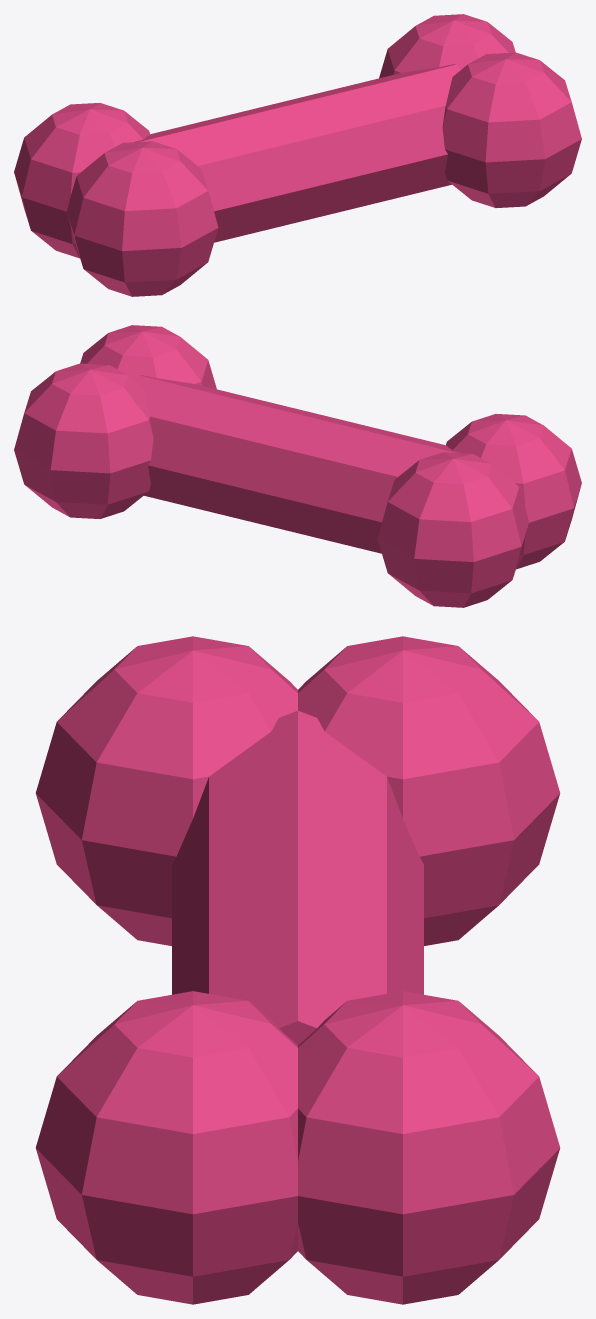
File: chew_toy.glb
3 renders of one model, top to bottom at view 1: azimuth 30°, elevation 25°; view 2: azimuth 150°, elevation 25°; view 3: azimuth 270°, elevation 25°, orthographic. The views are drawn at different scales.
Parts seen in each view (by area): view 1: chew_toy; view 2: chew_toy; view 3: chew_toy.
Boxes of the visible parts, box(x1,y1,x2,y2) form: chew_toy: box(14, 14, 581, 296); chew_toy: box(14, 325, 581, 607); chew_toy: box(35, 636, 560, 1304).
Size of the model in its own units: 0.11 by 0.03 by 0.05.
